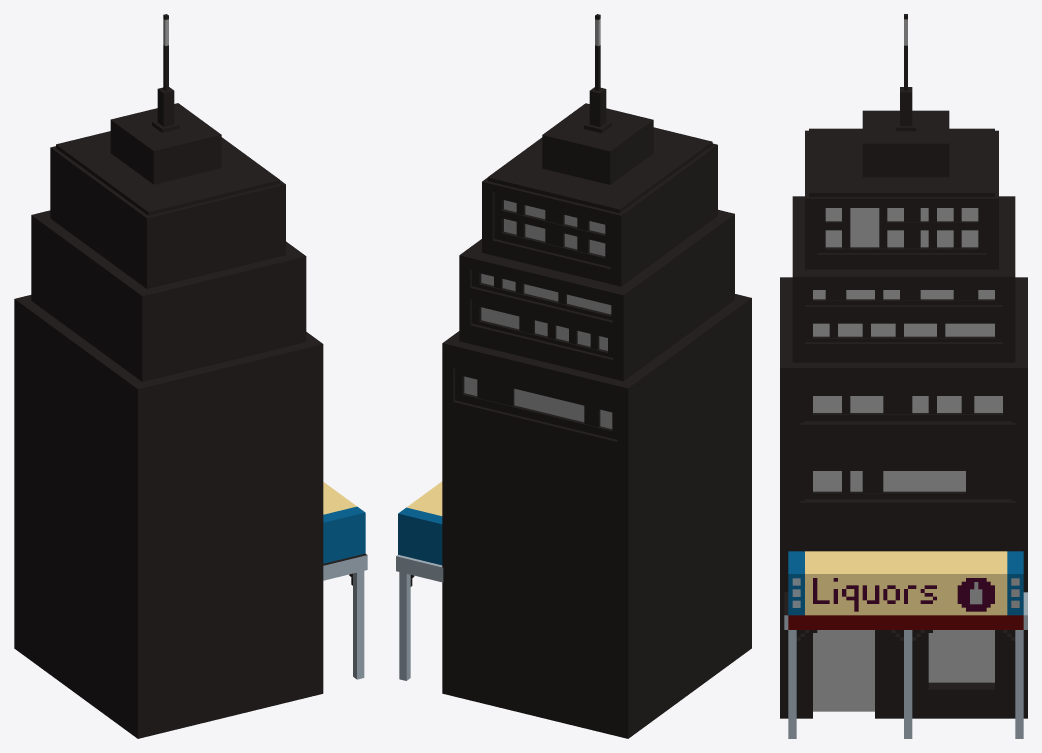
File: Building_Mesh_007.fbx
3 views of the same model, side by side, from view 1: azimuth 30°, elevation 25°; view 2: azimuth 150°, elevation 25°; view 3: azimuth 270°, elevation 25° (orthographic).
Parts seen in each view (by area): view 1: Building_007; view 2: Building_007; view 3: Building_007.
Part boxes in pixels (left/top/right/bottom): Building_007: left=14, top=14, right=367, bottom=738; Building_007: left=396, top=14, right=751, bottom=738; Building_007: left=780, top=14, right=1027, bottom=738.
Size of the model in its own units: 6.53 by 17.57 by 6.
